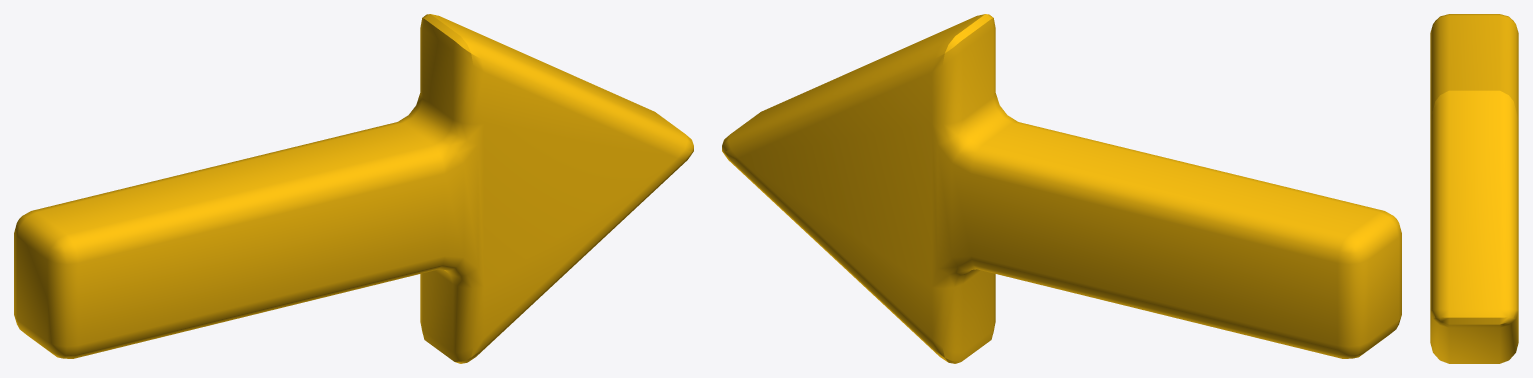
The model's file is seta.glb.
The picture shows the model from 3 angles, left to right: view 1: azimuth 30°, elevation 25°; view 2: azimuth 150°, elevation 25°; view 3: azimuth 270°, elevation 25°; orthographic projection. The views are drawn at different scales.
Parts seen in each view (by area): view 1: ext; view 2: ext; view 3: ext.
Part boxes in pixels (x1,y1,x2,y2): ext: [14, 14, 693, 363]; ext: [722, 14, 1401, 363]; ext: [1430, 14, 1518, 363].
Bounding box in the file's own units: 0.9849 × 0.4788 × 0.14.
